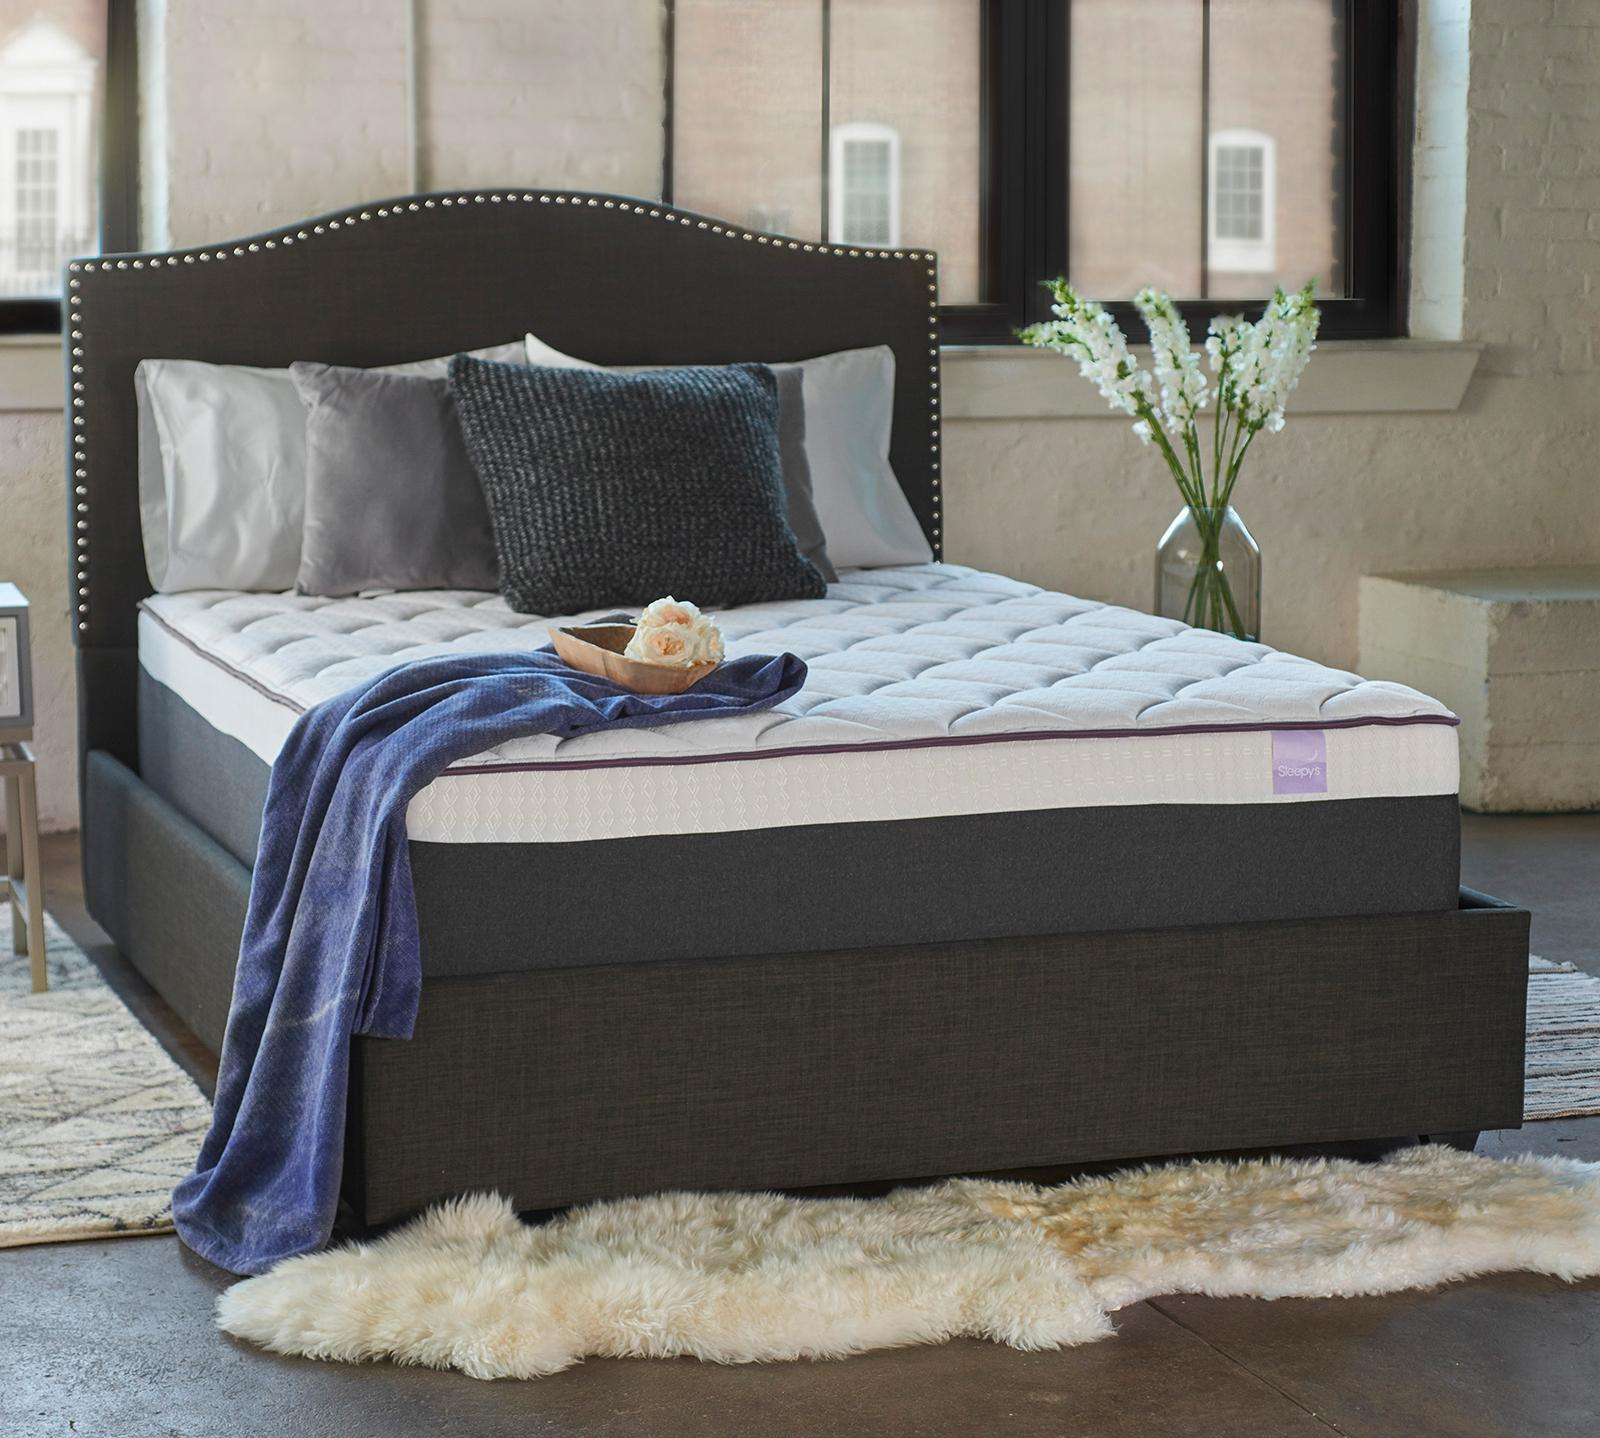bed: (136, 240, 1384, 970)
